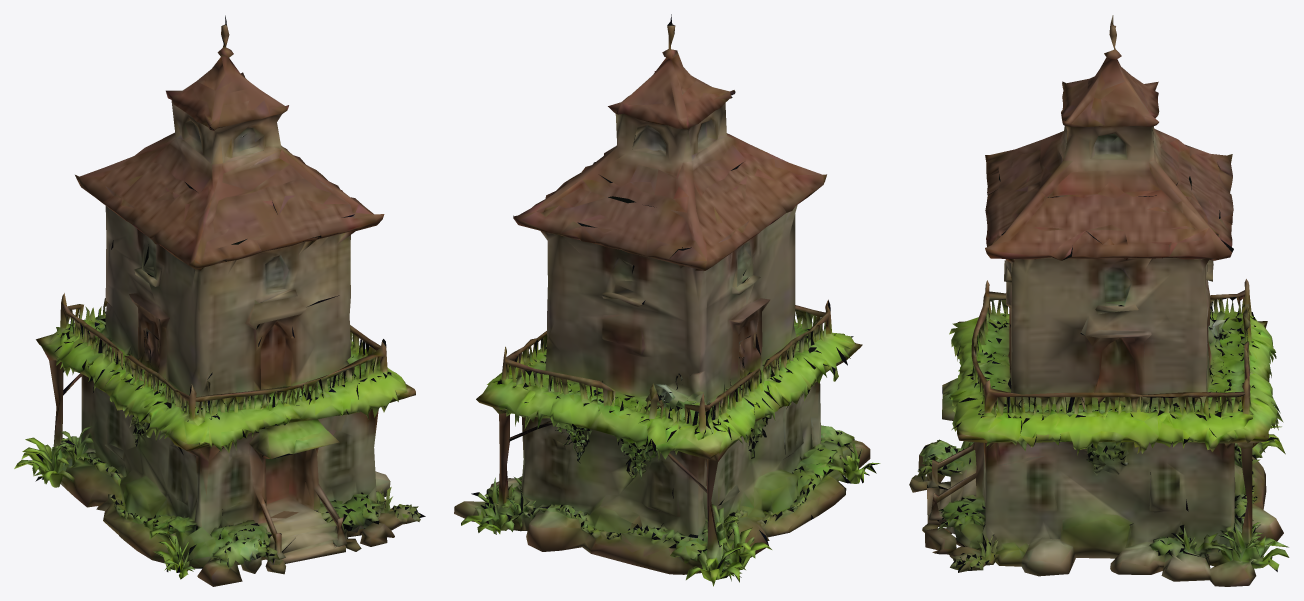
Rendered from bq_tower_house.bk.glb.
The picture shows the model from 3 angles, left to right: view 1: azimuth 30°, elevation 25°; view 2: azimuth 150°, elevation 25°; view 3: azimuth 270°, elevation 25°; orthographic projection. The views are drawn at different scales.
Visible parts, largest first — view 1: lo; view 2: lo; view 3: lo.
Boxes of the visible parts, left/top/right/bottom form: lo: left=14, top=15, right=425, bottom=586; lo: left=454, top=14, right=880, bottom=586; lo: left=909, top=15, right=1289, bottom=586.
Size of the model in its own units: 1.21 by 1.9 by 1.32.
Materials: 1 (1 with a texture image).
